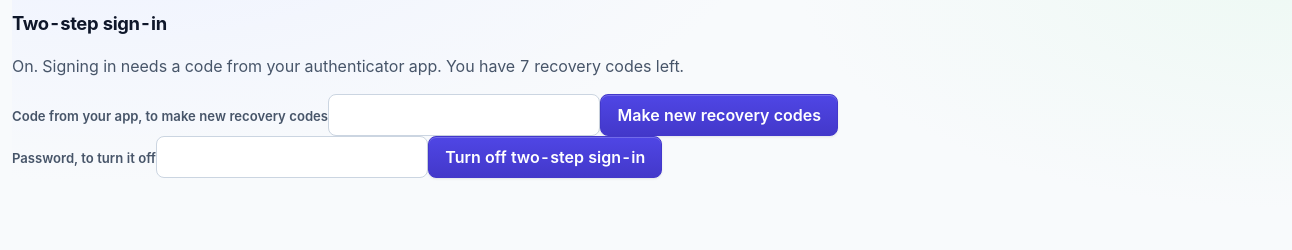
Test case: TwoStepSection › shows why a code was refused
In the field labelled "Code from your app, to make new recovery codes": (464, 115) [328, 94, 600, 136], type "000000"
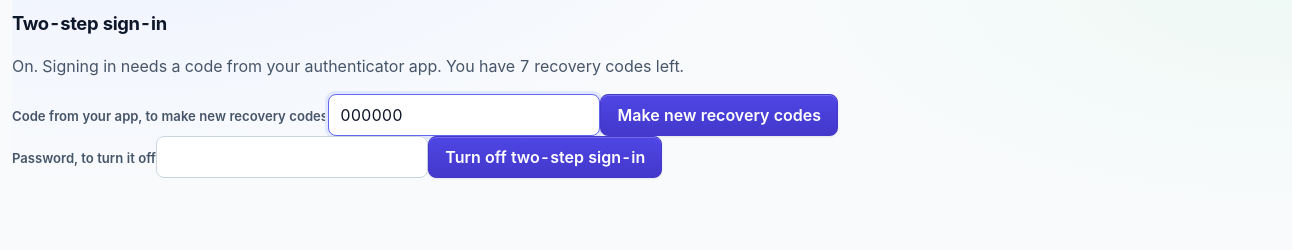
Click the button "Make new recovery codes": (719, 115) [600, 94, 838, 136]
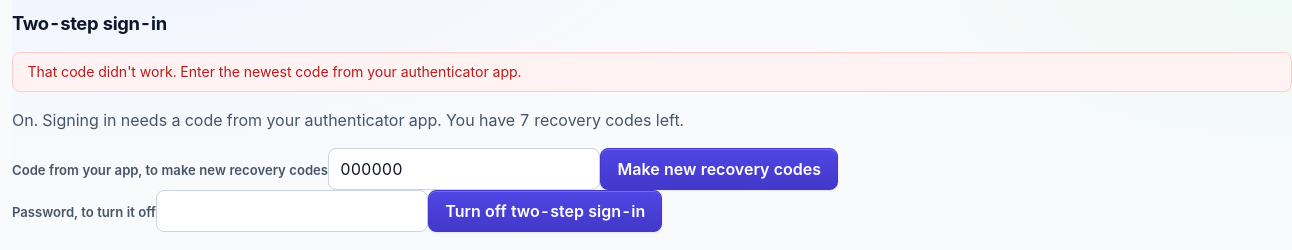
Expected: the message shows "That code didn't work.", [27, 64, 521, 80]
